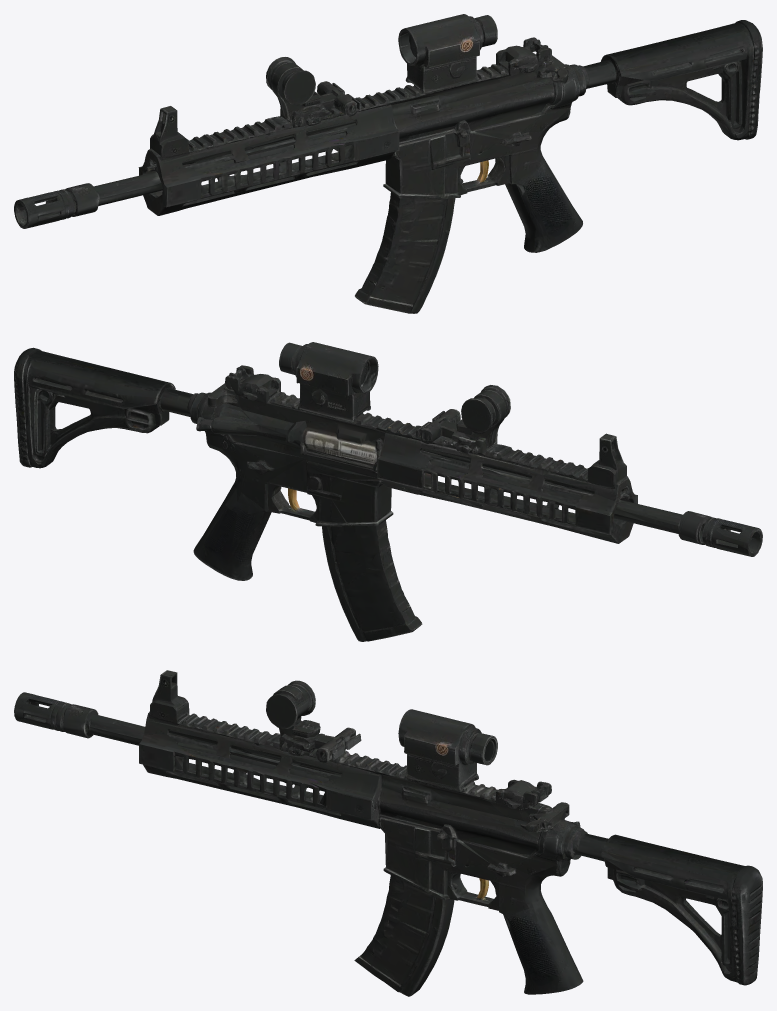
File: rifle.glb
The picture shows the model from 3 angles, top to bottom: view 1: azimuth 30°, elevation 25°; view 2: azimuth 150°, elevation 25°; view 3: azimuth 330°, elevation 25°; orthographic projection.
Visible parts, largest first — view 1: Rifle; view 2: Rifle; view 3: Rifle.
Boxes of the visible parts, x1=… form: Rifle: x1=14, y1=14, x2=762, y2=313; Rifle: x1=14, y1=342, x2=762, y2=641; Rifle: x1=14, y1=670, x2=762, y2=996.
Size of what is drawn, in the model's own units: 1.9 by 0.6968 by 0.1683.
1 material, 1 textured.
